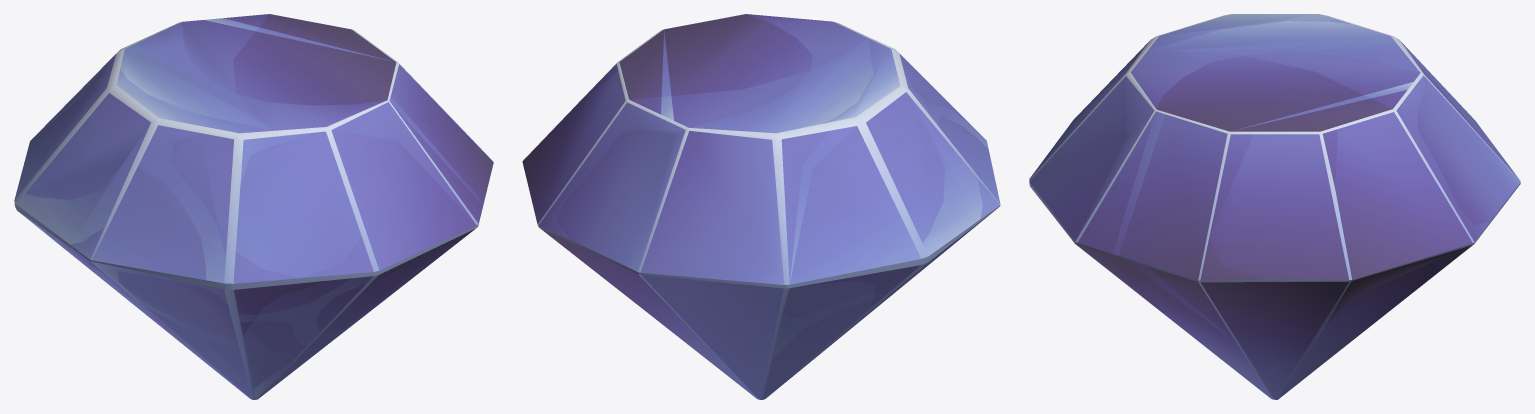
File: Diamond.fbx
3 renders of one model, left to right at view 1: azimuth 30°, elevation 25°; view 2: azimuth 150°, elevation 25°; view 3: azimuth 270°, elevation 25°, orthographic.
Parts seen in each view (by area): view 1: Diamond; view 2: Diamond; view 3: Diamond.
Boxes of the visible parts, x1=… form: Diamond: x1=14, y1=14, x2=493, y2=399; Diamond: x1=522, y1=14, x2=1000, y2=399; Diamond: x1=1029, y1=14, x2=1520, y2=399.
Size of the model in its own units: 77.9 by 59.89 by 81.47.
